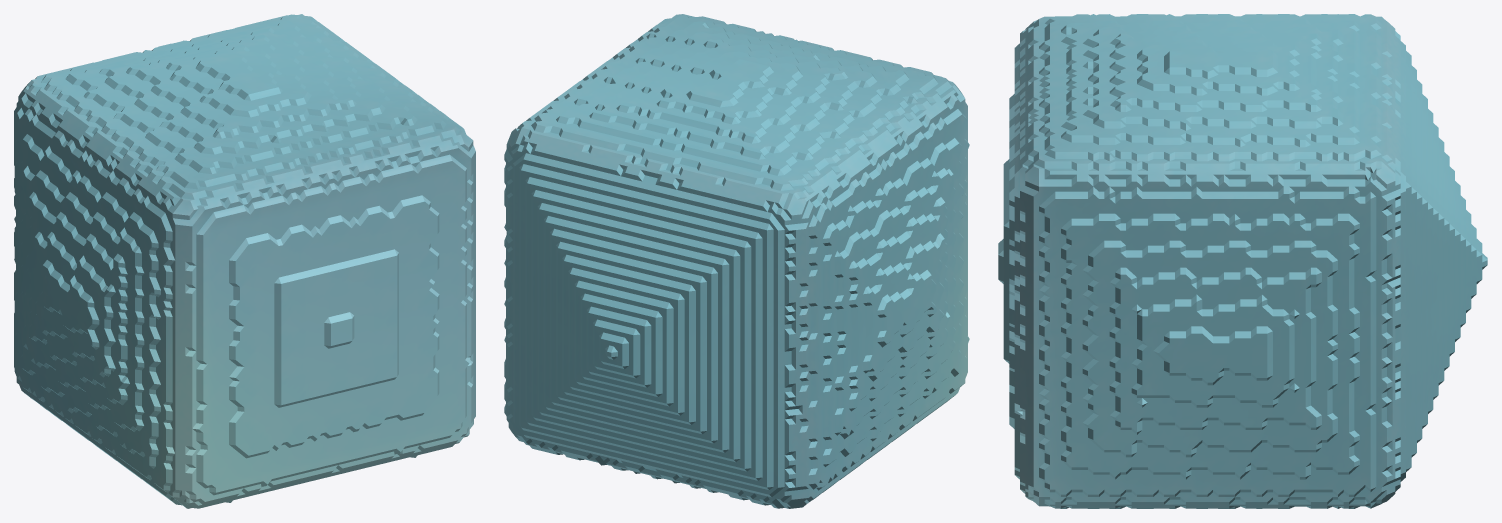
The model's file is photo23d-model.glb.
3 renders of one model, left to right at view 1: azimuth 30°, elevation 25°; view 2: azimuth 150°, elevation 25°; view 3: azimuth 270°, elevation 25°, orthographic. The views are drawn at different scales.
Parts seen in each view (by area): view 1: Photo23D model; view 2: Photo23D model; view 3: Photo23D model.
Boxes of the visible parts, x1,y1,x2,y2 form: Photo23D model: (14,14,475,508); Photo23D model: (504,14,969,508); Photo23D model: (998,14,1487,508).
Bounding box in the file's own units: 2.69 × 2.72 × 2.95.
